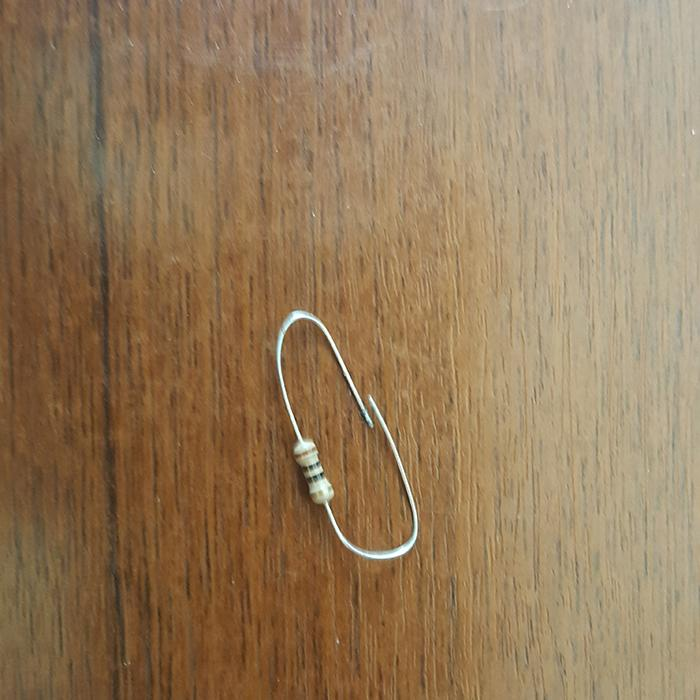resistor: (292, 438, 334, 505)
